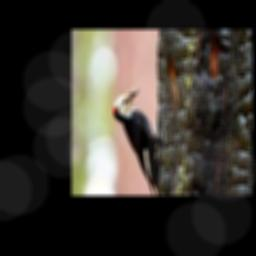Woodpecker: (114, 85, 168, 195)
